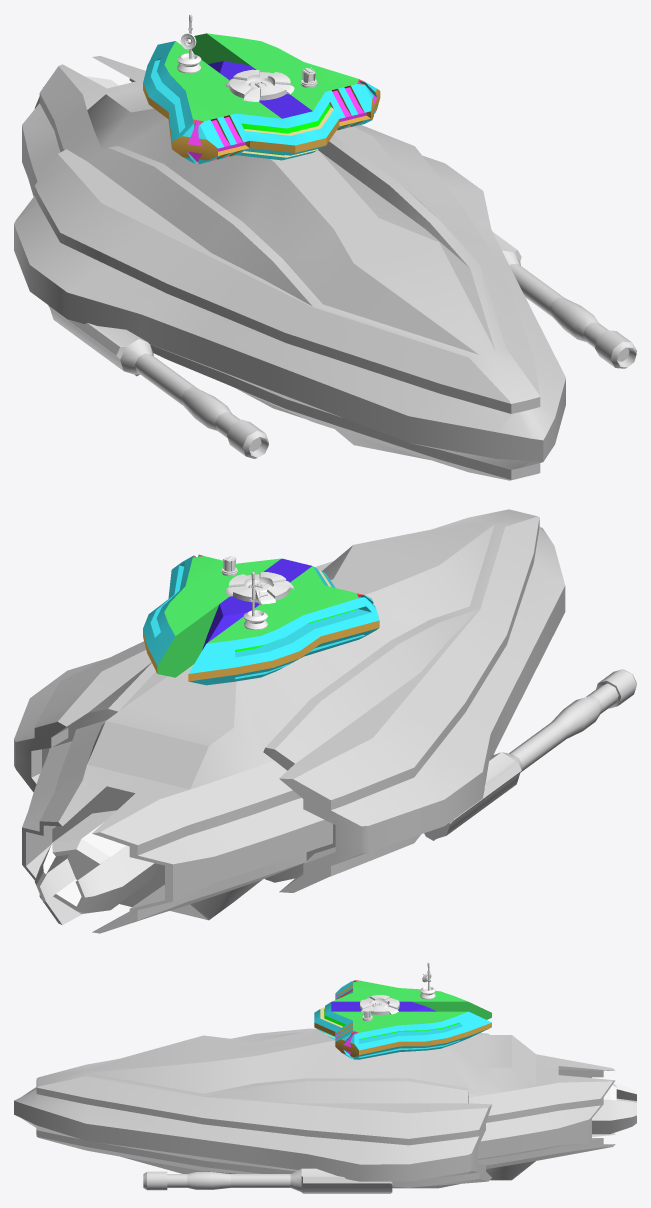
Rendered from PatrolShip01Unity.fbx.
3 views of the same model, one above another, from view 1: azimuth 30°, elevation 25°; view 2: azimuth 150°, elevation 25°; view 3: azimuth 270°, elevation 25° (orthographic). The views are drawn at different scales.
Visible parts, largest first — view 1: Hull.001, AutoCannon.002, AutoCannon; view 2: Hull.001, AutoCannon.002; view 3: Hull.001, AutoCannon.
Boxes of the visible parts, bbox=[...] form: Hull.001: bbox=[14, 14, 565, 480]; AutoCannon.002: bbox=[48, 305, 268, 458]; AutoCannon: bbox=[493, 232, 636, 368]; Hull.001: bbox=[14, 509, 565, 933]; AutoCannon.002: bbox=[424, 669, 636, 840]; Hull.001: bbox=[14, 962, 636, 1188]; AutoCannon: bbox=[143, 1168, 392, 1193].
Size of the model in its own units: 11.36 by 22.82 by 8.44.
